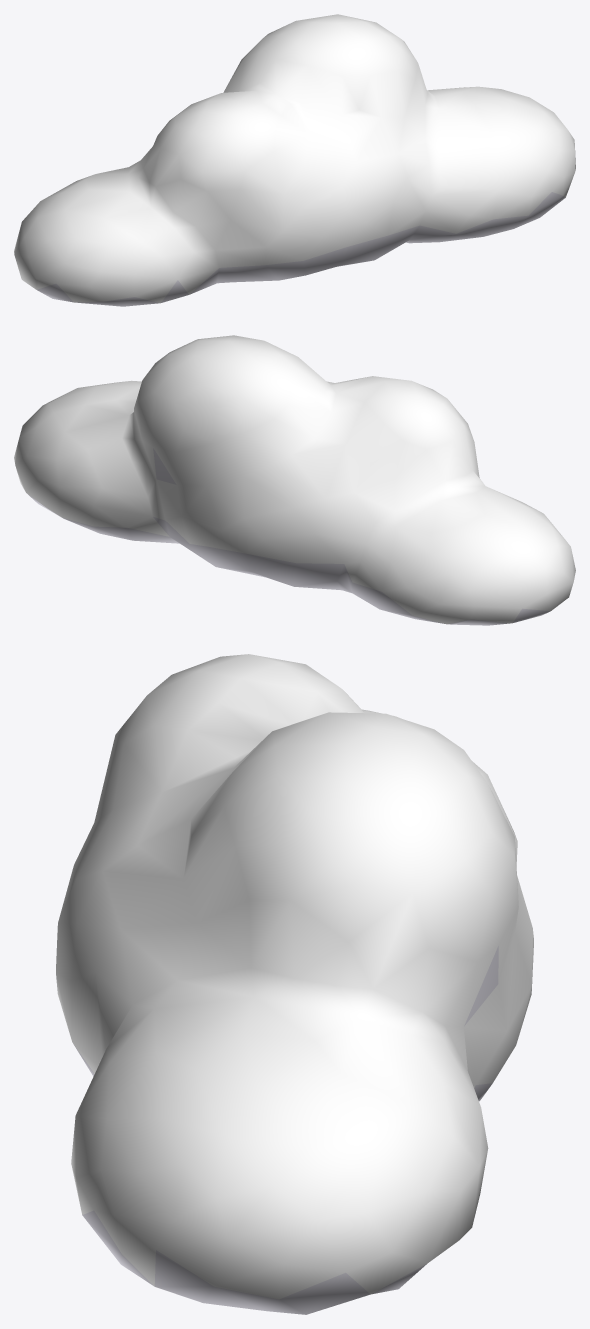
Rendered from Cloud.fbx.
3 views of the same model, one above another, from view 1: azimuth 30°, elevation 25°; view 2: azimuth 150°, elevation 25°; view 3: azimuth 270°, elevation 25° (orthographic). The views are drawn at different scales.
Parts seen in each view (by area): view 1: Cloud; view 2: Cloud; view 3: Cloud.
Boxes of the visible parts, box(x1,y1,x2,y2) form: Cloud: box(14, 14, 575, 306); Cloud: box(14, 335, 575, 625); Cloud: box(56, 654, 533, 1314).
Size of the model in its own units: 8.04 by 2.82 by 3.15.
Materials: 1 (1 with a texture image).
